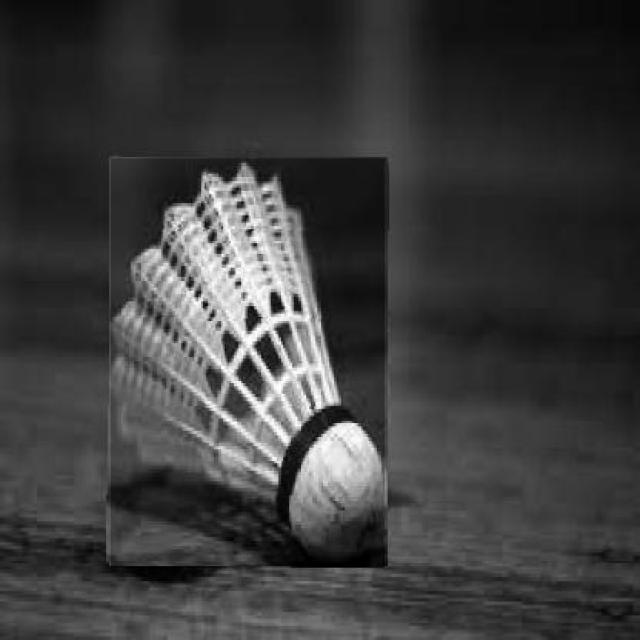Shuttlecock: (110, 157, 383, 566)
